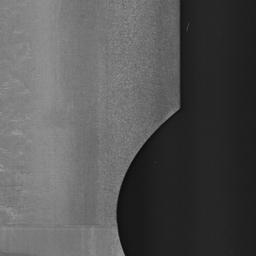Crescent gap: (116, 110, 178, 256)
